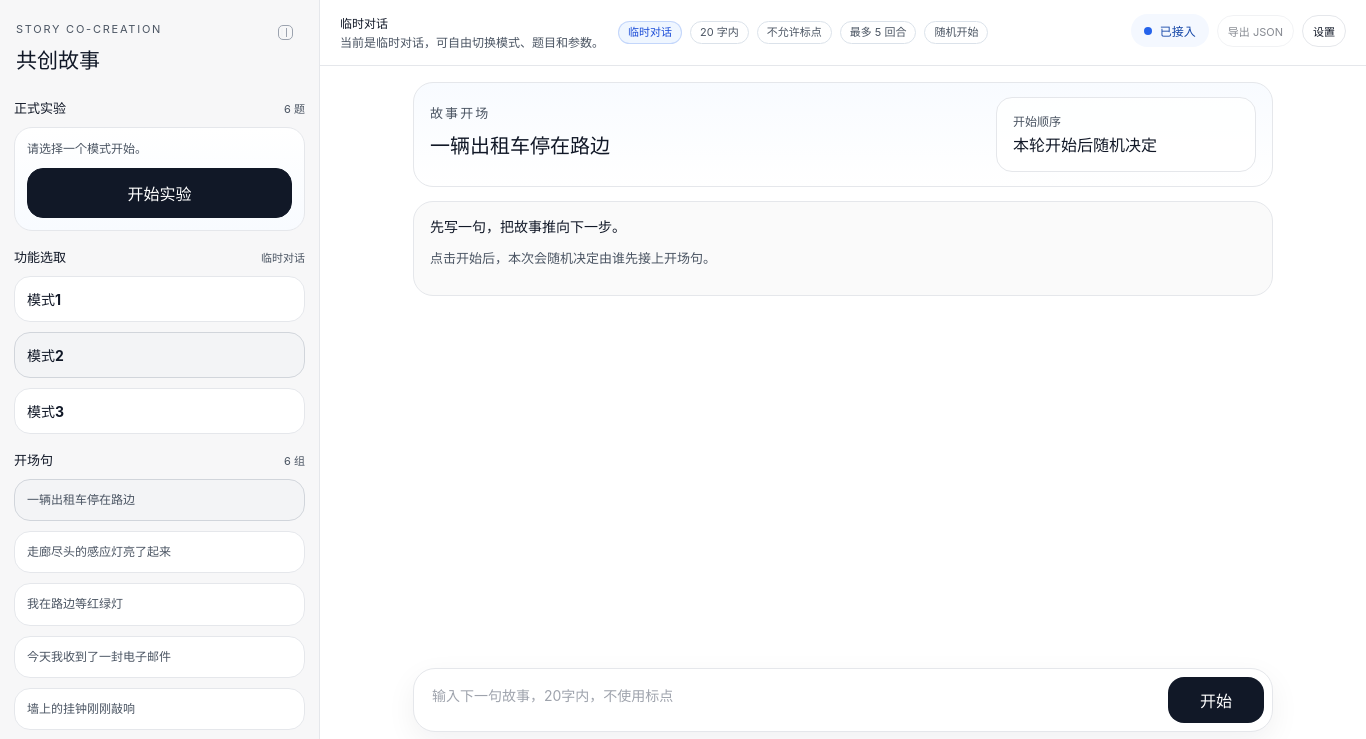
Test: App › submits on enter
Click the button "开始" at (1216, 700), box [1168,677,1264,723]
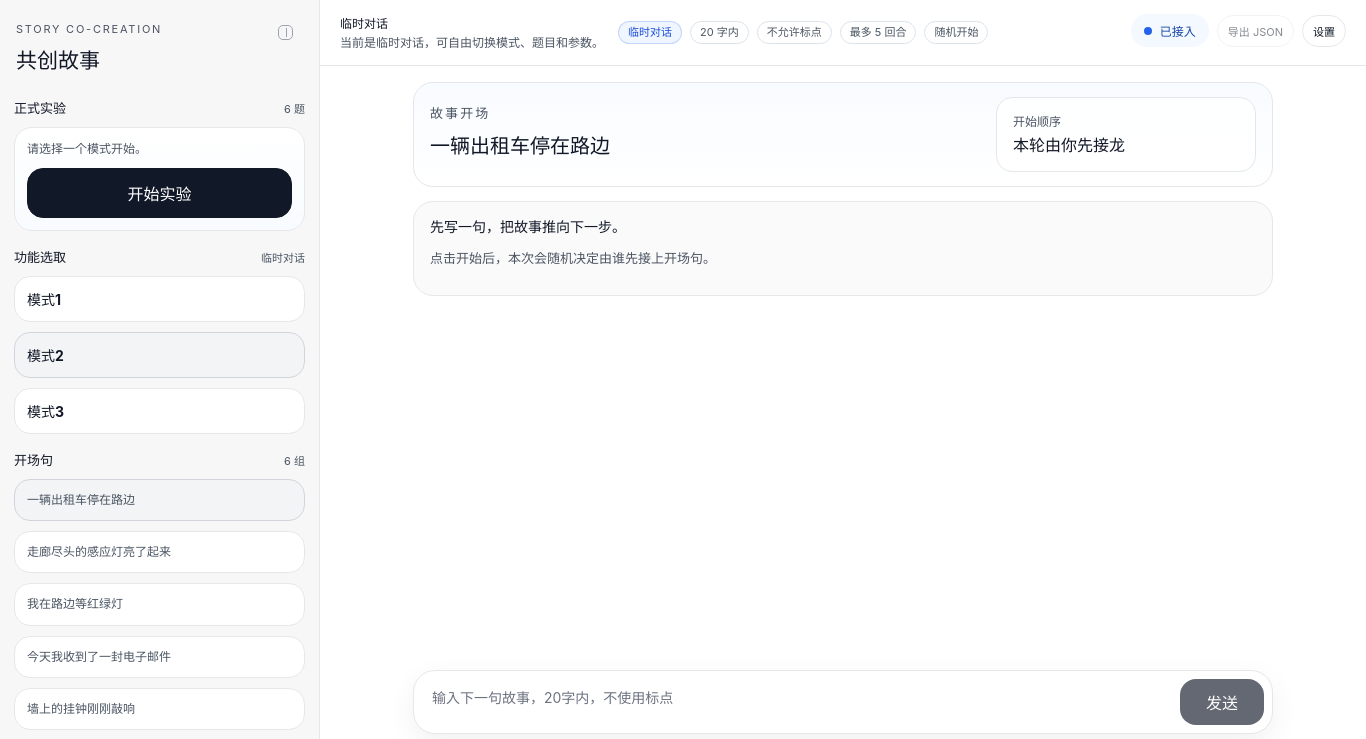
Type "他看见墙上浮出旧地图" into the text box with placeholder "输入下一句故事，20字内，不使用标点" at (795, 702), box [422,679,1168,725]
Then press Enter
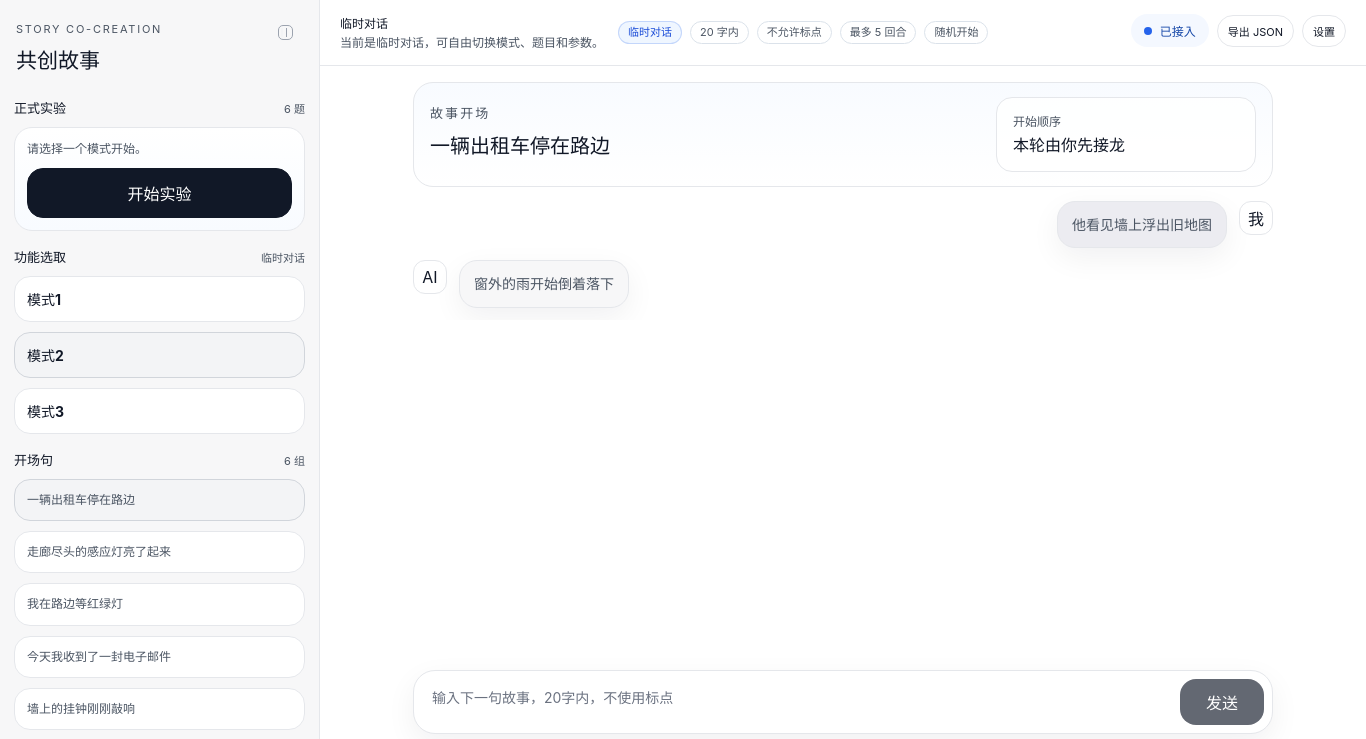
Expected: the text "他看见墙上浮出旧地图" is shown, [1072,214,1212,236]
